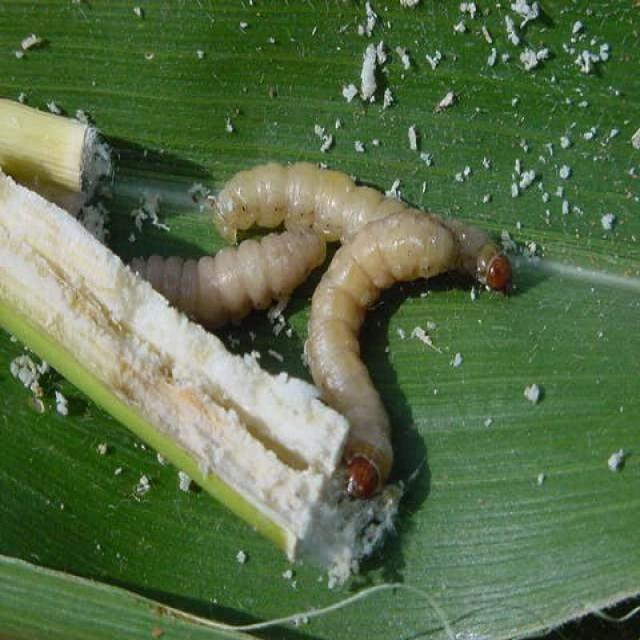cornborer-Larva-: (294, 208, 460, 515)
